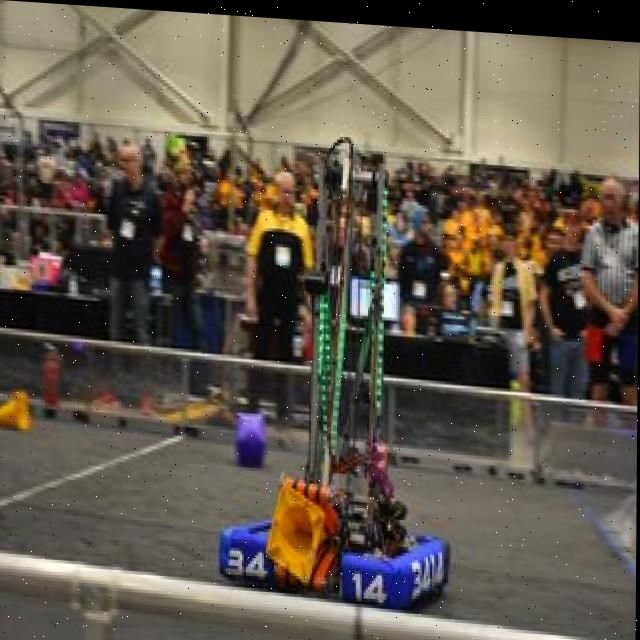robot: (211, 134, 491, 622)
